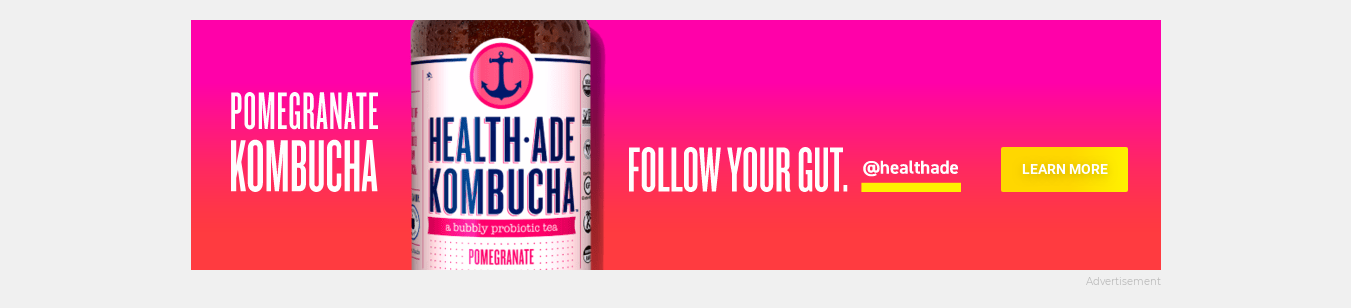fake_button: (991, 129, 1151, 218)
